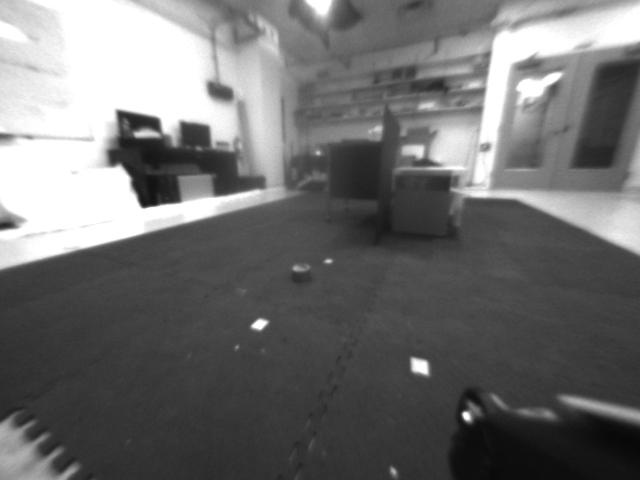dogtoy: (279, 259, 324, 285)
